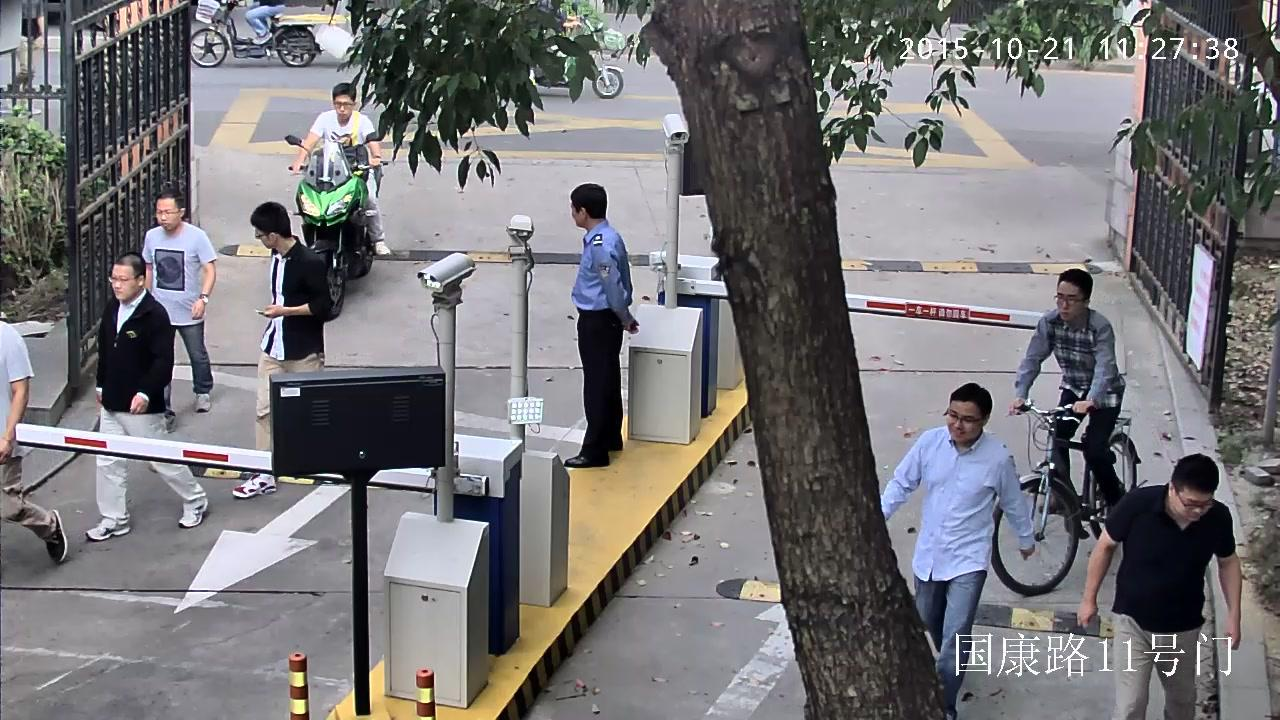person: (880, 382, 1034, 720), (990, 269, 1140, 595), (1075, 454, 1242, 720), (85, 252, 208, 540), (232, 201, 335, 499), (1014, 268, 1125, 507), (284, 82, 390, 321), (563, 184, 639, 466), (290, 82, 389, 255), (141, 191, 216, 412), (0, 317, 67, 560), (189, 0, 322, 66), (19, 0, 42, 115), (244, 0, 284, 44)
